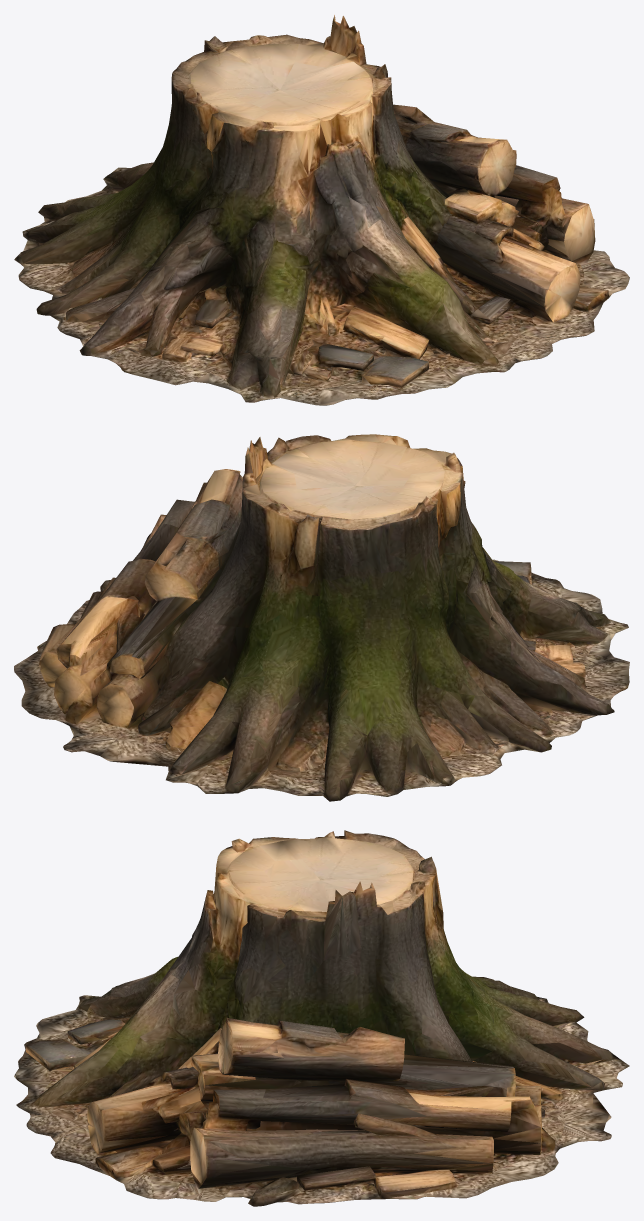
3 renders of one model, top to bottom at view 1: azimuth 30°, elevation 25°; view 2: azimuth 150°, elevation 25°; view 3: azimuth 270°, elevation 25°, orthographic.
Visible parts, largest first — view 1: node_0; view 2: node_0; view 3: node_0.
Part boxes in pixels (<box>): node_0: <box>14,15,629,405</box>; node_0: <box>14,434,629,801</box>; node_0: <box>14,830,629,1206</box>.
Bounding box in the file's own units: 1.01 × 0.4363 × 1.06.
1 material, 1 textured.
